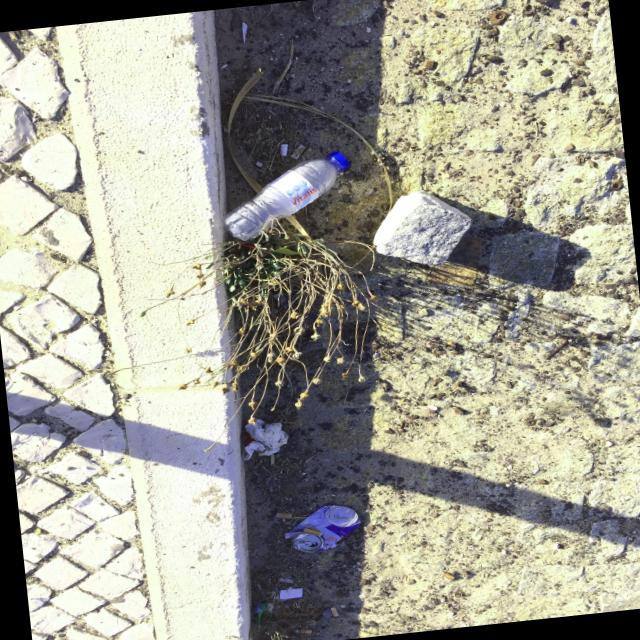less trash: (224, 151, 349, 239)
